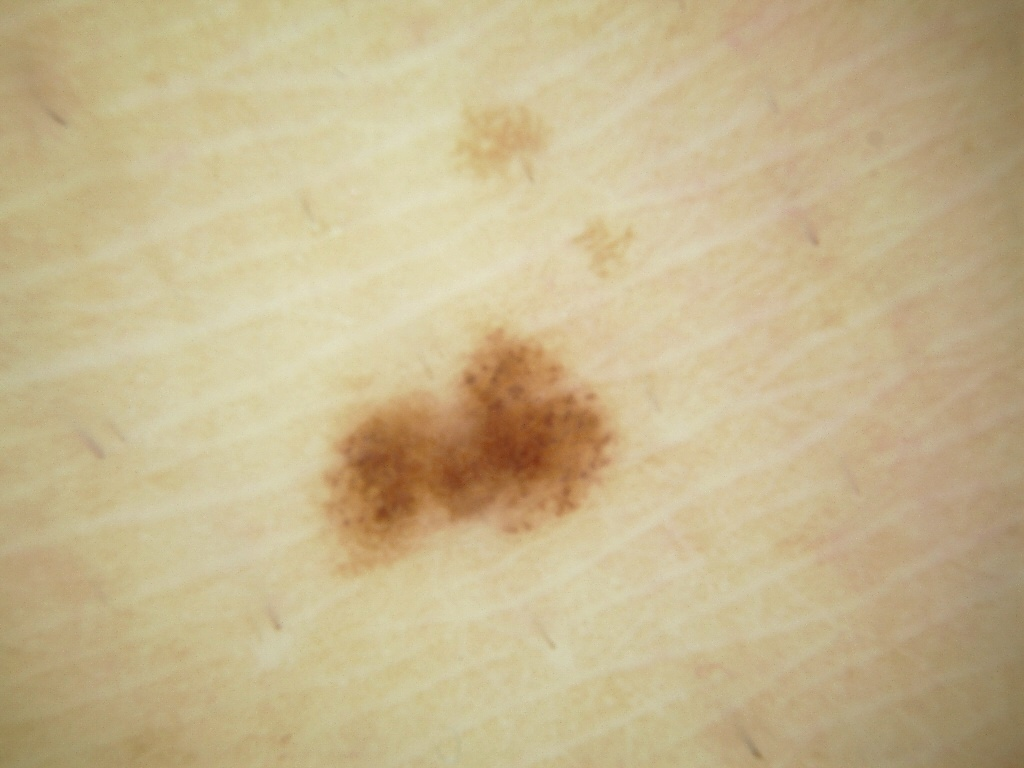Detected Lesion: (309, 318, 625, 587)
